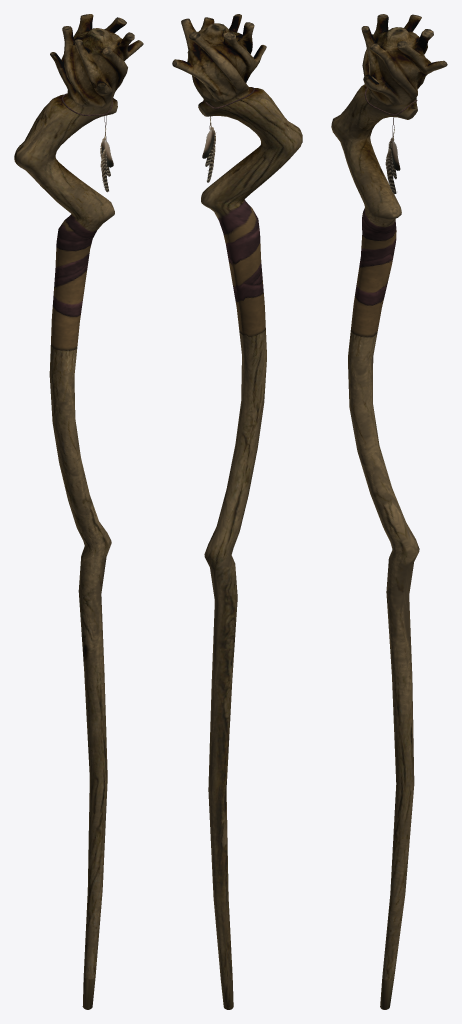
The model's file is staff.fbx.
3 renders of one model, left to right at view 1: azimuth 30°, elevation 25°; view 2: azimuth 210°, elevation 25°; view 3: azimuth 330°, elevation 25°, orthographic.
Parts seen in each view (by area): view 1: Staff; view 2: Staff; view 3: Staff.
Part boxes in pixels (bbox=[...]): Staff: bbox=[14, 14, 143, 1009]; Staff: bbox=[172, 14, 302, 1009]; Staff: bbox=[331, 14, 447, 1009].
Size of the model in its own units: 234 by 1827 by 130.
Materials: 1 (1 with a texture image).
